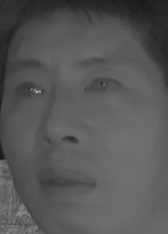eye: (83, 73, 123, 98), (11, 79, 47, 103)
mouth: (32, 160, 100, 203)
